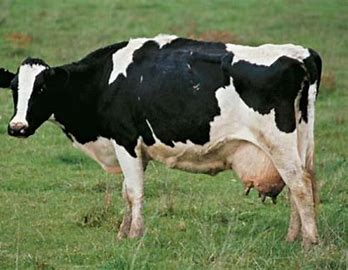waka: (1, 31, 331, 251)
